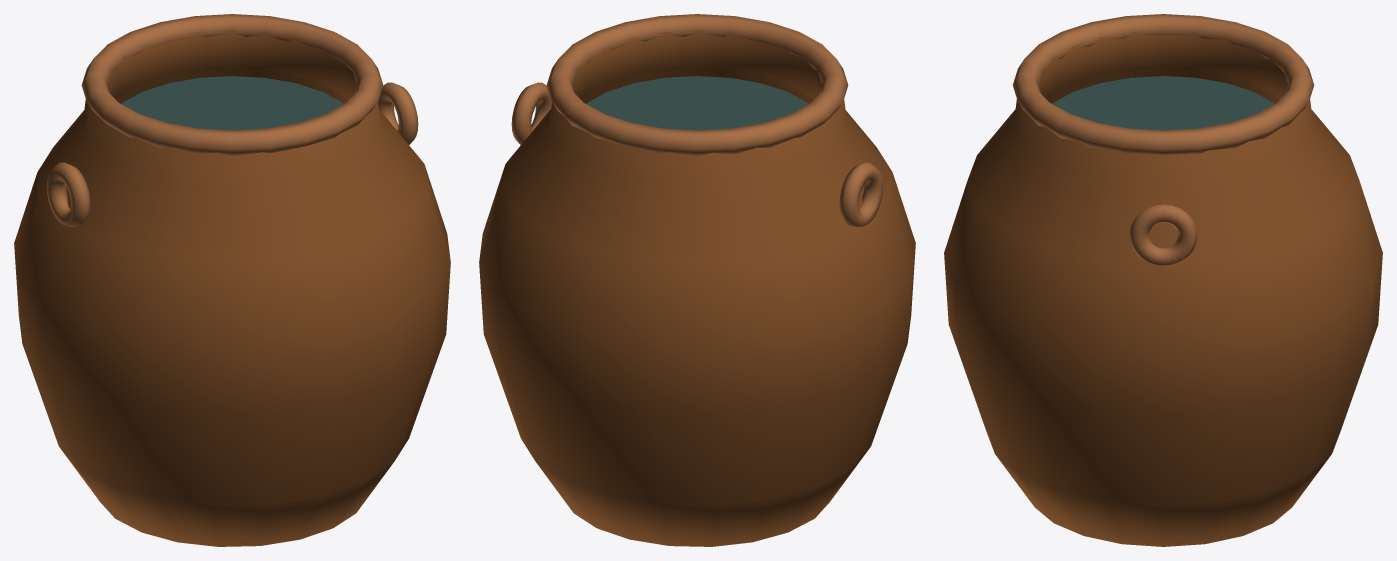
Rendered from LV_CHUM_NUOC_01.glb.
3 renders of one model, left to right at view 1: azimuth 30°, elevation 25°; view 2: azimuth 150°, elevation 25°; view 3: azimuth 270°, elevation 25°, orthographic.
Visible parts, largest first — view 1: LV_CHUM_NUOC_01-surface-855127, LV_CHUM_NUOC_01-surface-a36a40, LV_CHUM_NUOC_01-surface-374f4b; view 2: LV_CHUM_NUOC_01-surface-855127, LV_CHUM_NUOC_01-surface-a36a40, LV_CHUM_NUOC_01-surface-374f4b; view 3: LV_CHUM_NUOC_01-surface-855127, LV_CHUM_NUOC_01-surface-a36a40, LV_CHUM_NUOC_01-surface-374f4b.
Part boxes in pixels (x1=…): LV_CHUM_NUOC_01-surface-855127: x1=14, y1=30, x2=450, y2=546; LV_CHUM_NUOC_01-surface-a36a40: x1=46, y1=14, x2=418, y2=226; LV_CHUM_NUOC_01-surface-374f4b: x1=121, y1=76, x2=343, y2=130; LV_CHUM_NUOC_01-surface-855127: x1=479, y1=30, x2=915, y2=546; LV_CHUM_NUOC_01-surface-a36a40: x1=511, y1=14, x2=883, y2=226; LV_CHUM_NUOC_01-surface-374f4b: x1=586, y1=76, x2=808, y2=130; LV_CHUM_NUOC_01-surface-855127: x1=944, y1=31, x2=1382, y2=546; LV_CHUM_NUOC_01-surface-a36a40: x1=1012, y1=14, x2=1314, y2=265; LV_CHUM_NUOC_01-surface-374f4b: x1=1052, y1=76, x2=1274, y2=130.
Size of the model in its own units: 0.94 by 0.9802 by 0.94.
